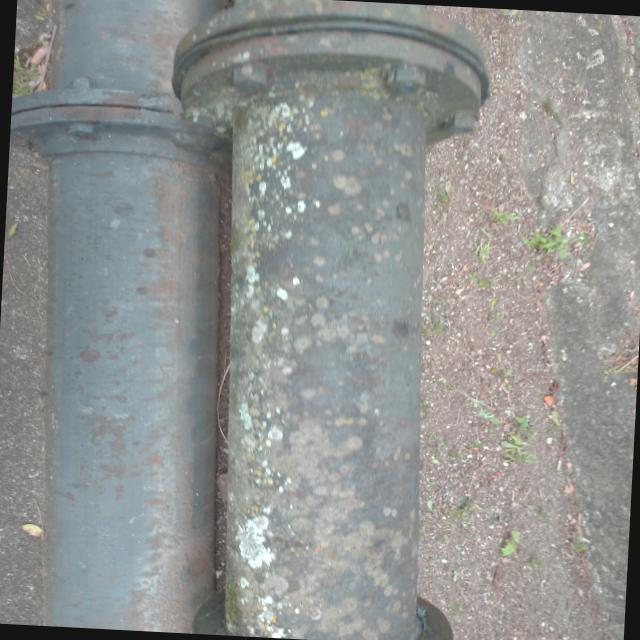gas: (210, 0, 451, 637), (27, 0, 236, 630)
